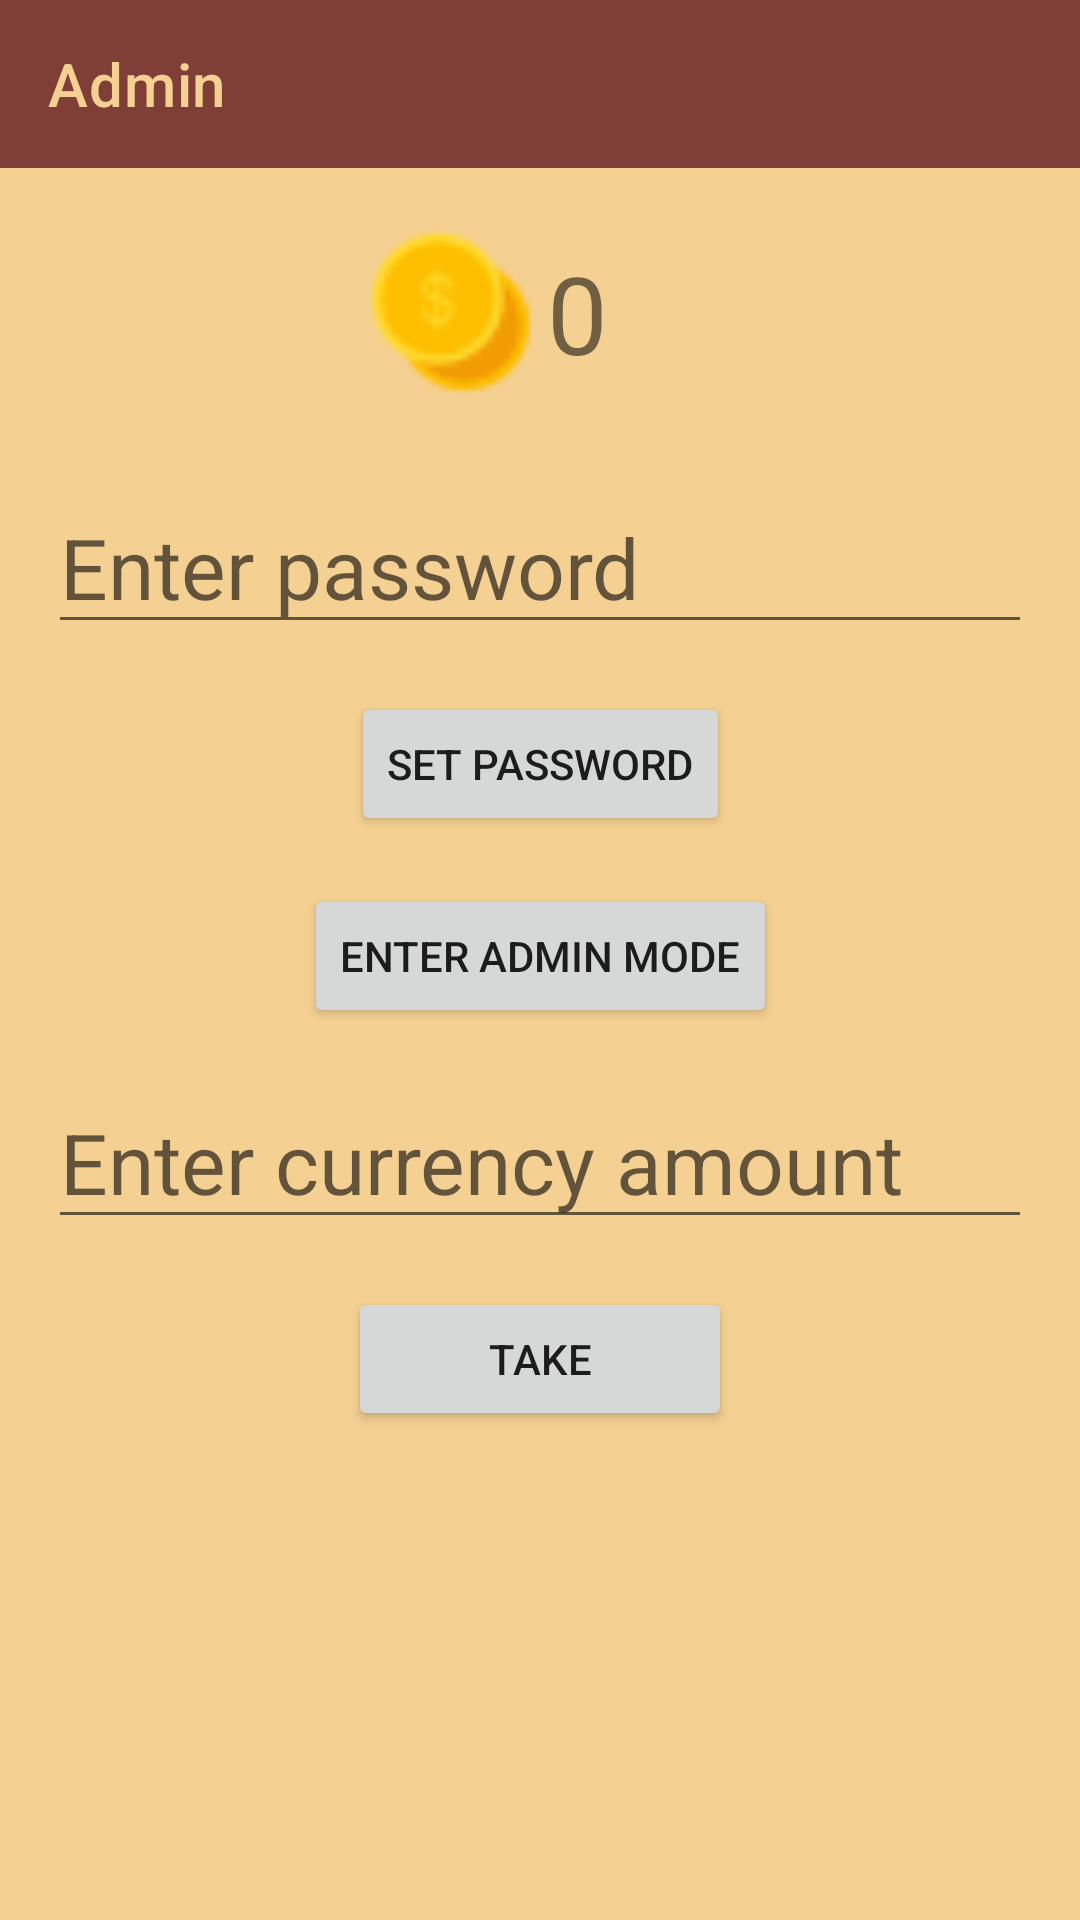

Screen size 1080px x 1920px. Icon name, then its center in pixels as (x,y):
coin: (451,312)
